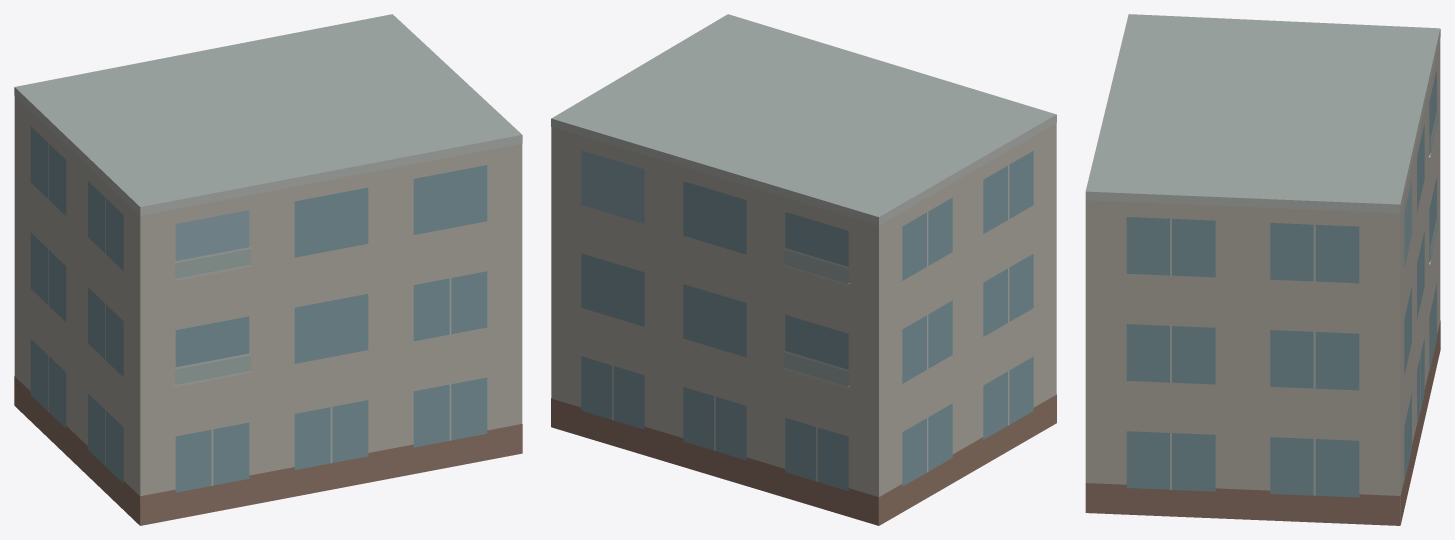
Rendered from survey-upis-32544790.glb.
The picture shows the model from 3 angles, left to right: view 1: azimuth 30°, elevation 25°; view 2: azimuth 150°, elevation 25°; view 3: azimuth 270°, elevation 25°; orthographic projection. The views are drawn at different scales.
Parts seen in each view (by area): view 1: survey-upis-32544790.tmp; view 2: survey-upis-32544790.tmp; view 3: survey-upis-32544790.tmp.
Part boxes in pixels (x1,y1,x2,y2): survey-upis-32544790.tmp: (14, 14, 522, 525); survey-upis-32544790.tmp: (551, 14, 1056, 525); survey-upis-32544790.tmp: (1085, 14, 1440, 525).
Size of the model in its own units: 11.45 by 9 by 9.02.
